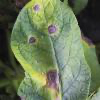Potato leaf early blight: (10, 0, 91, 99)
